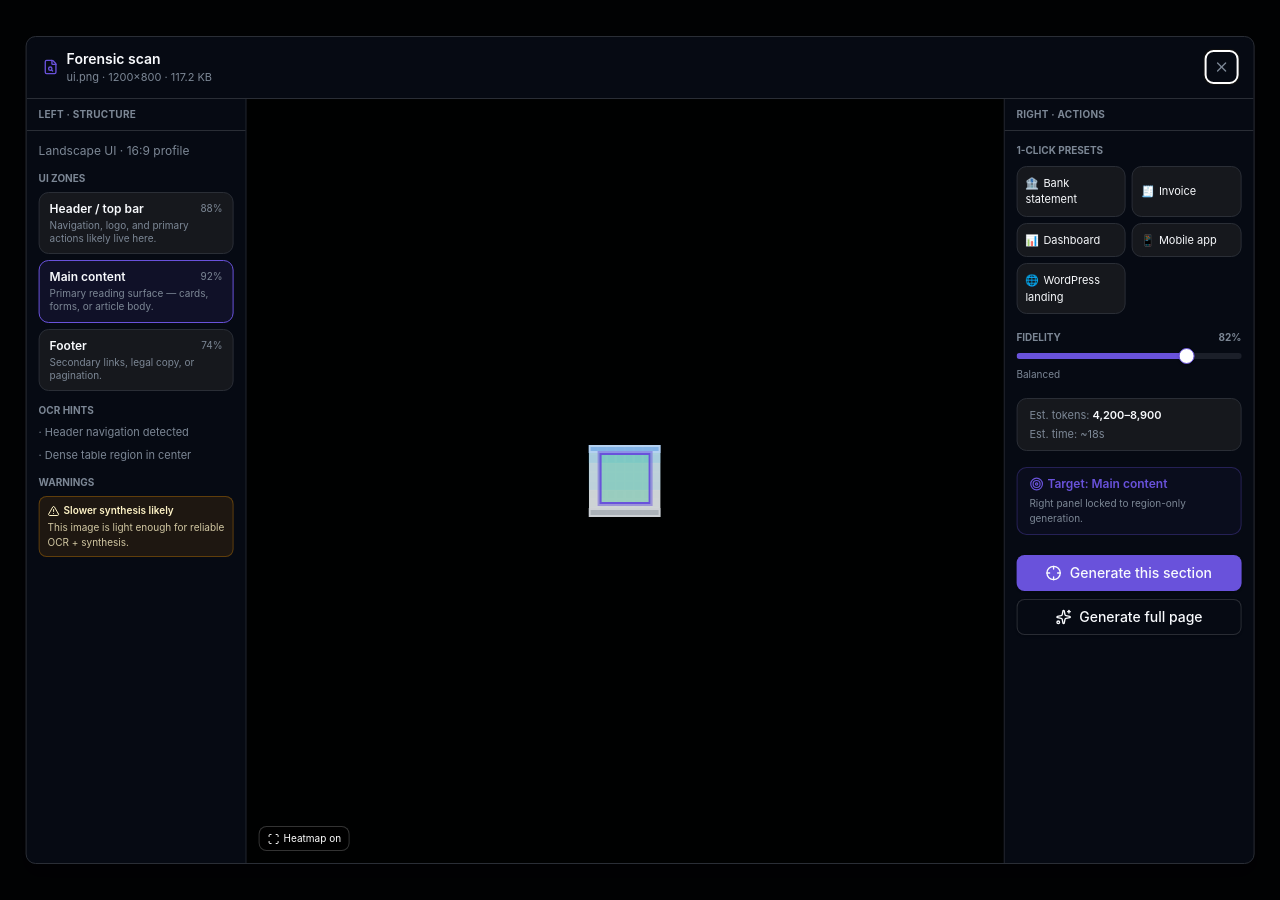
buttons › forensic-lightbox › preset WordPress landing — toggles active state
This screenshot has width=1280, height=900.
Later steps or results of the test are not shown.
What coordinates should you click on to do the following:
click the button "🌐WordPress landing"
I would click on:
 (1071, 288)
Its box is x1=1016 y1=263 x2=1126 y2=314.
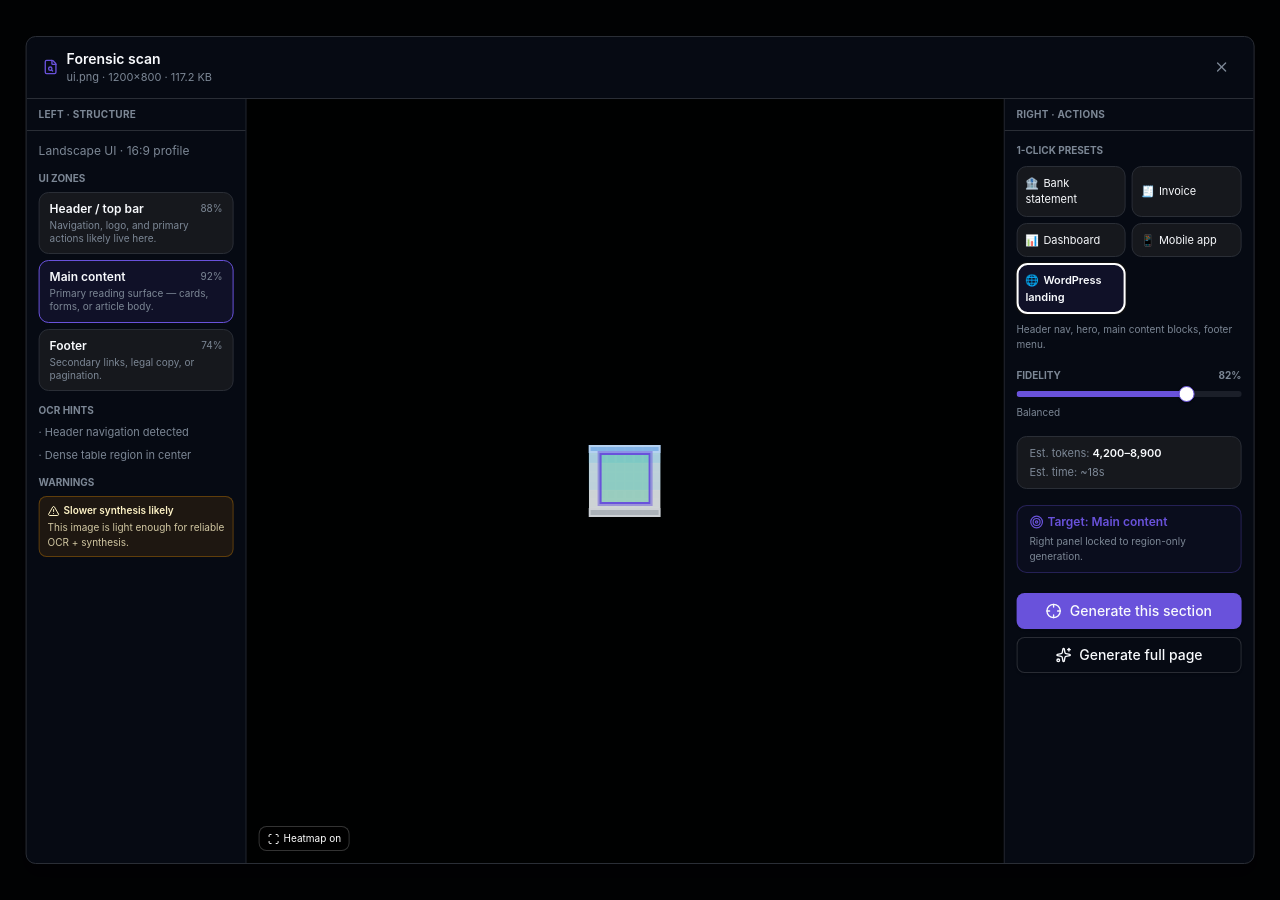
Check: the button "🌐WordPress landing" has class "border-primary", box x1=1016 y1=263 x2=1126 y2=314
